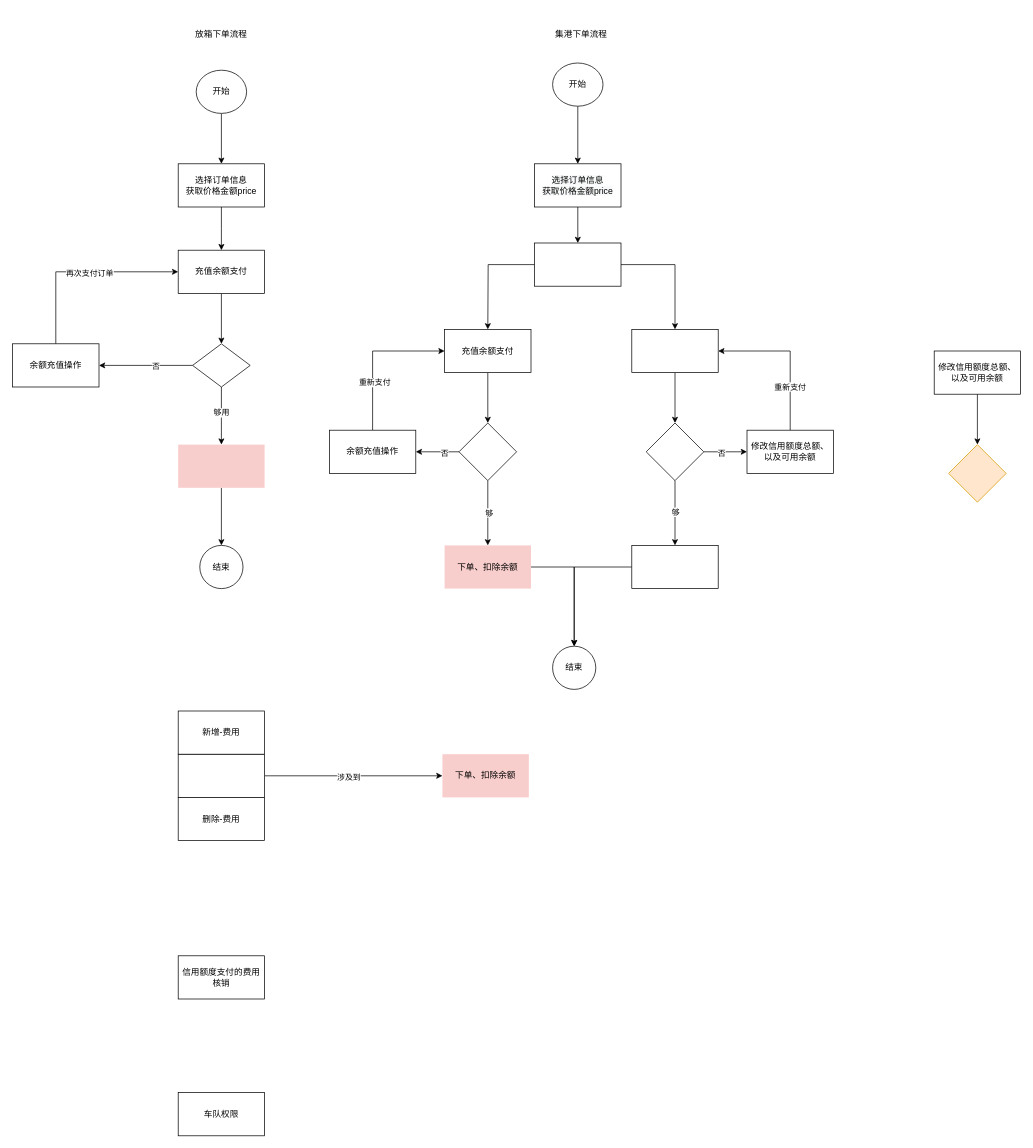
The diagram is 1033 pixels wide and 1148 high, and some of its shapes have lost their labels. The centre of each missing label's shape, as x and y in pixels:
"下单、扣除余额；添加记录" belongs at point 221,465.
"下单、扣除信用额度" belongs at point 674,567.
"信用额度修改目标值 是否 小于已用余额" belongs at point 977,473.
"信用额度支付" belongs at point 674,351.
"修改-费用" belongs at point 221,775.
"判断余额是否够用？" belongs at point 221,365.
"判断信用额度是否够用？" belongs at point 674,451.
"判断是否够用？" belongs at point 487,451.
"选择支付方式？" belongs at point 577,264.
